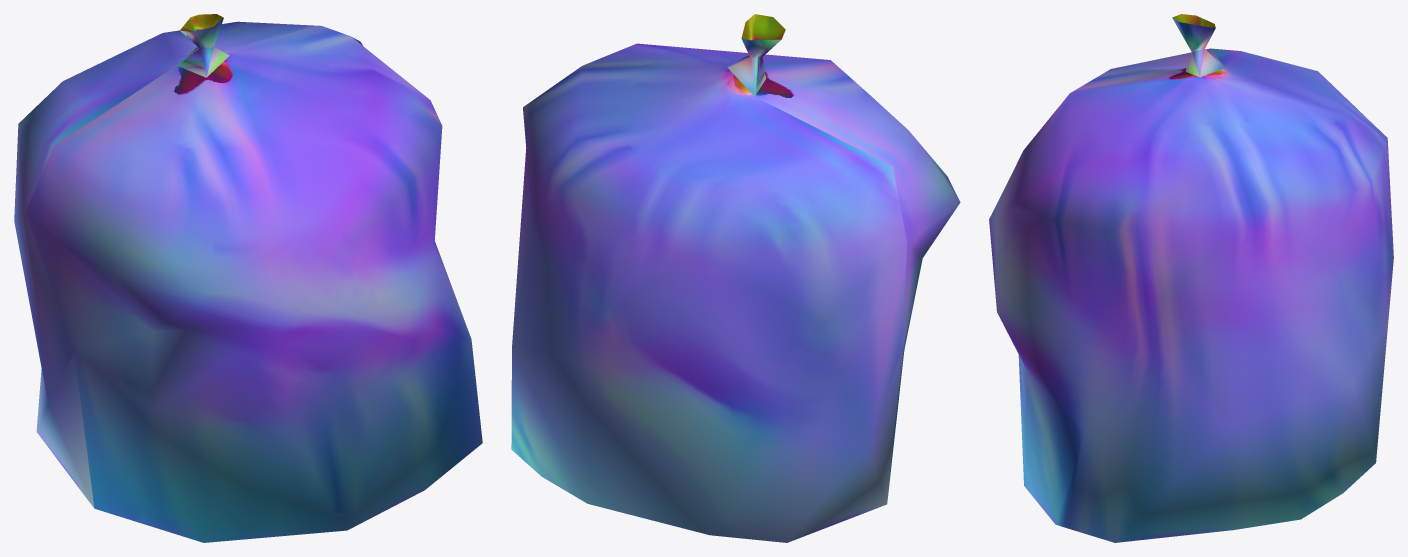
The model's file is garbage_bag.fbx.
3 views of the same model, side by side, from view 1: azimuth 30°, elevation 25°; view 2: azimuth 150°, elevation 25°; view 3: azimuth 270°, elevation 25° (orthographic). The views are drawn at different scales.
Visible parts, largest first — view 1: pCylinder7_orig.001; view 2: pCylinder7_orig.001; view 3: pCylinder7_orig.001.
Boxes of the visible parts, x1=… form: pCylinder7_orig.001: x1=14, y1=14, x2=482, y2=542; pCylinder7_orig.001: x1=511, y1=14, x2=960, y2=542; pCylinder7_orig.001: x1=989, y1=14, x2=1393, y2=542.
Bounding box in the file's own units: 0.2234 × 0.2693 × 0.2139.
